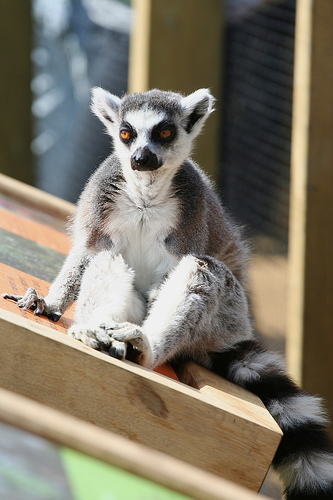cat: (1, 86, 331, 498)
